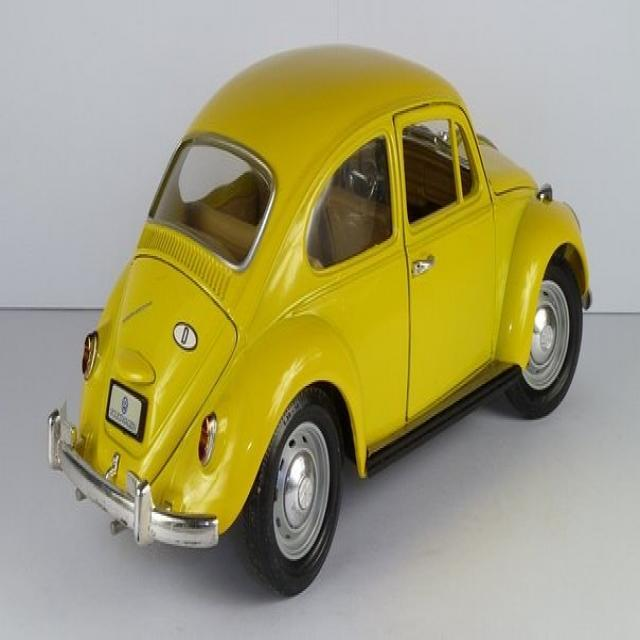cars: (74, 51, 594, 589)
